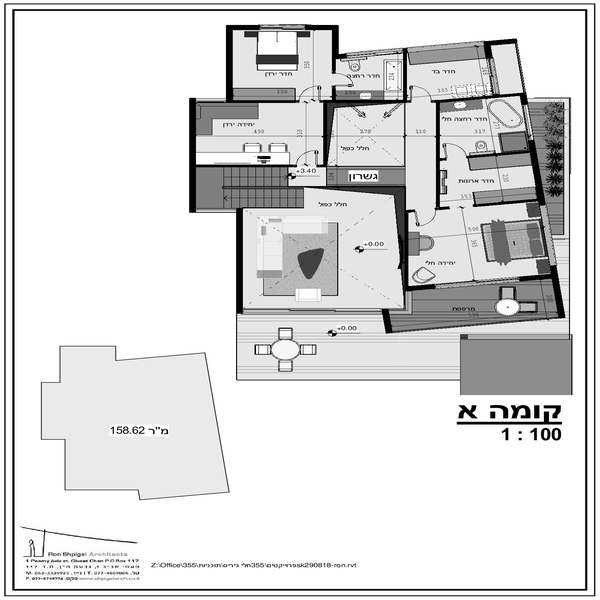door: (441, 135, 471, 179), (406, 202, 441, 232), (409, 75, 432, 105), (297, 81, 324, 106), (330, 68, 356, 92), (295, 144, 321, 165)
room: (227, 188, 419, 314), (178, 90, 331, 212), (404, 192, 562, 287), (214, 11, 344, 117), (432, 93, 547, 208), (324, 45, 411, 107)
wall: (183, 96, 200, 213), (232, 202, 245, 318), (540, 266, 567, 321), (221, 24, 238, 104), (431, 97, 442, 213), (508, 35, 526, 97), (237, 23, 344, 33), (530, 137, 545, 206), (438, 94, 533, 104), (472, 148, 533, 163), (379, 306, 405, 337), (477, 198, 543, 210), (326, 21, 343, 65)
